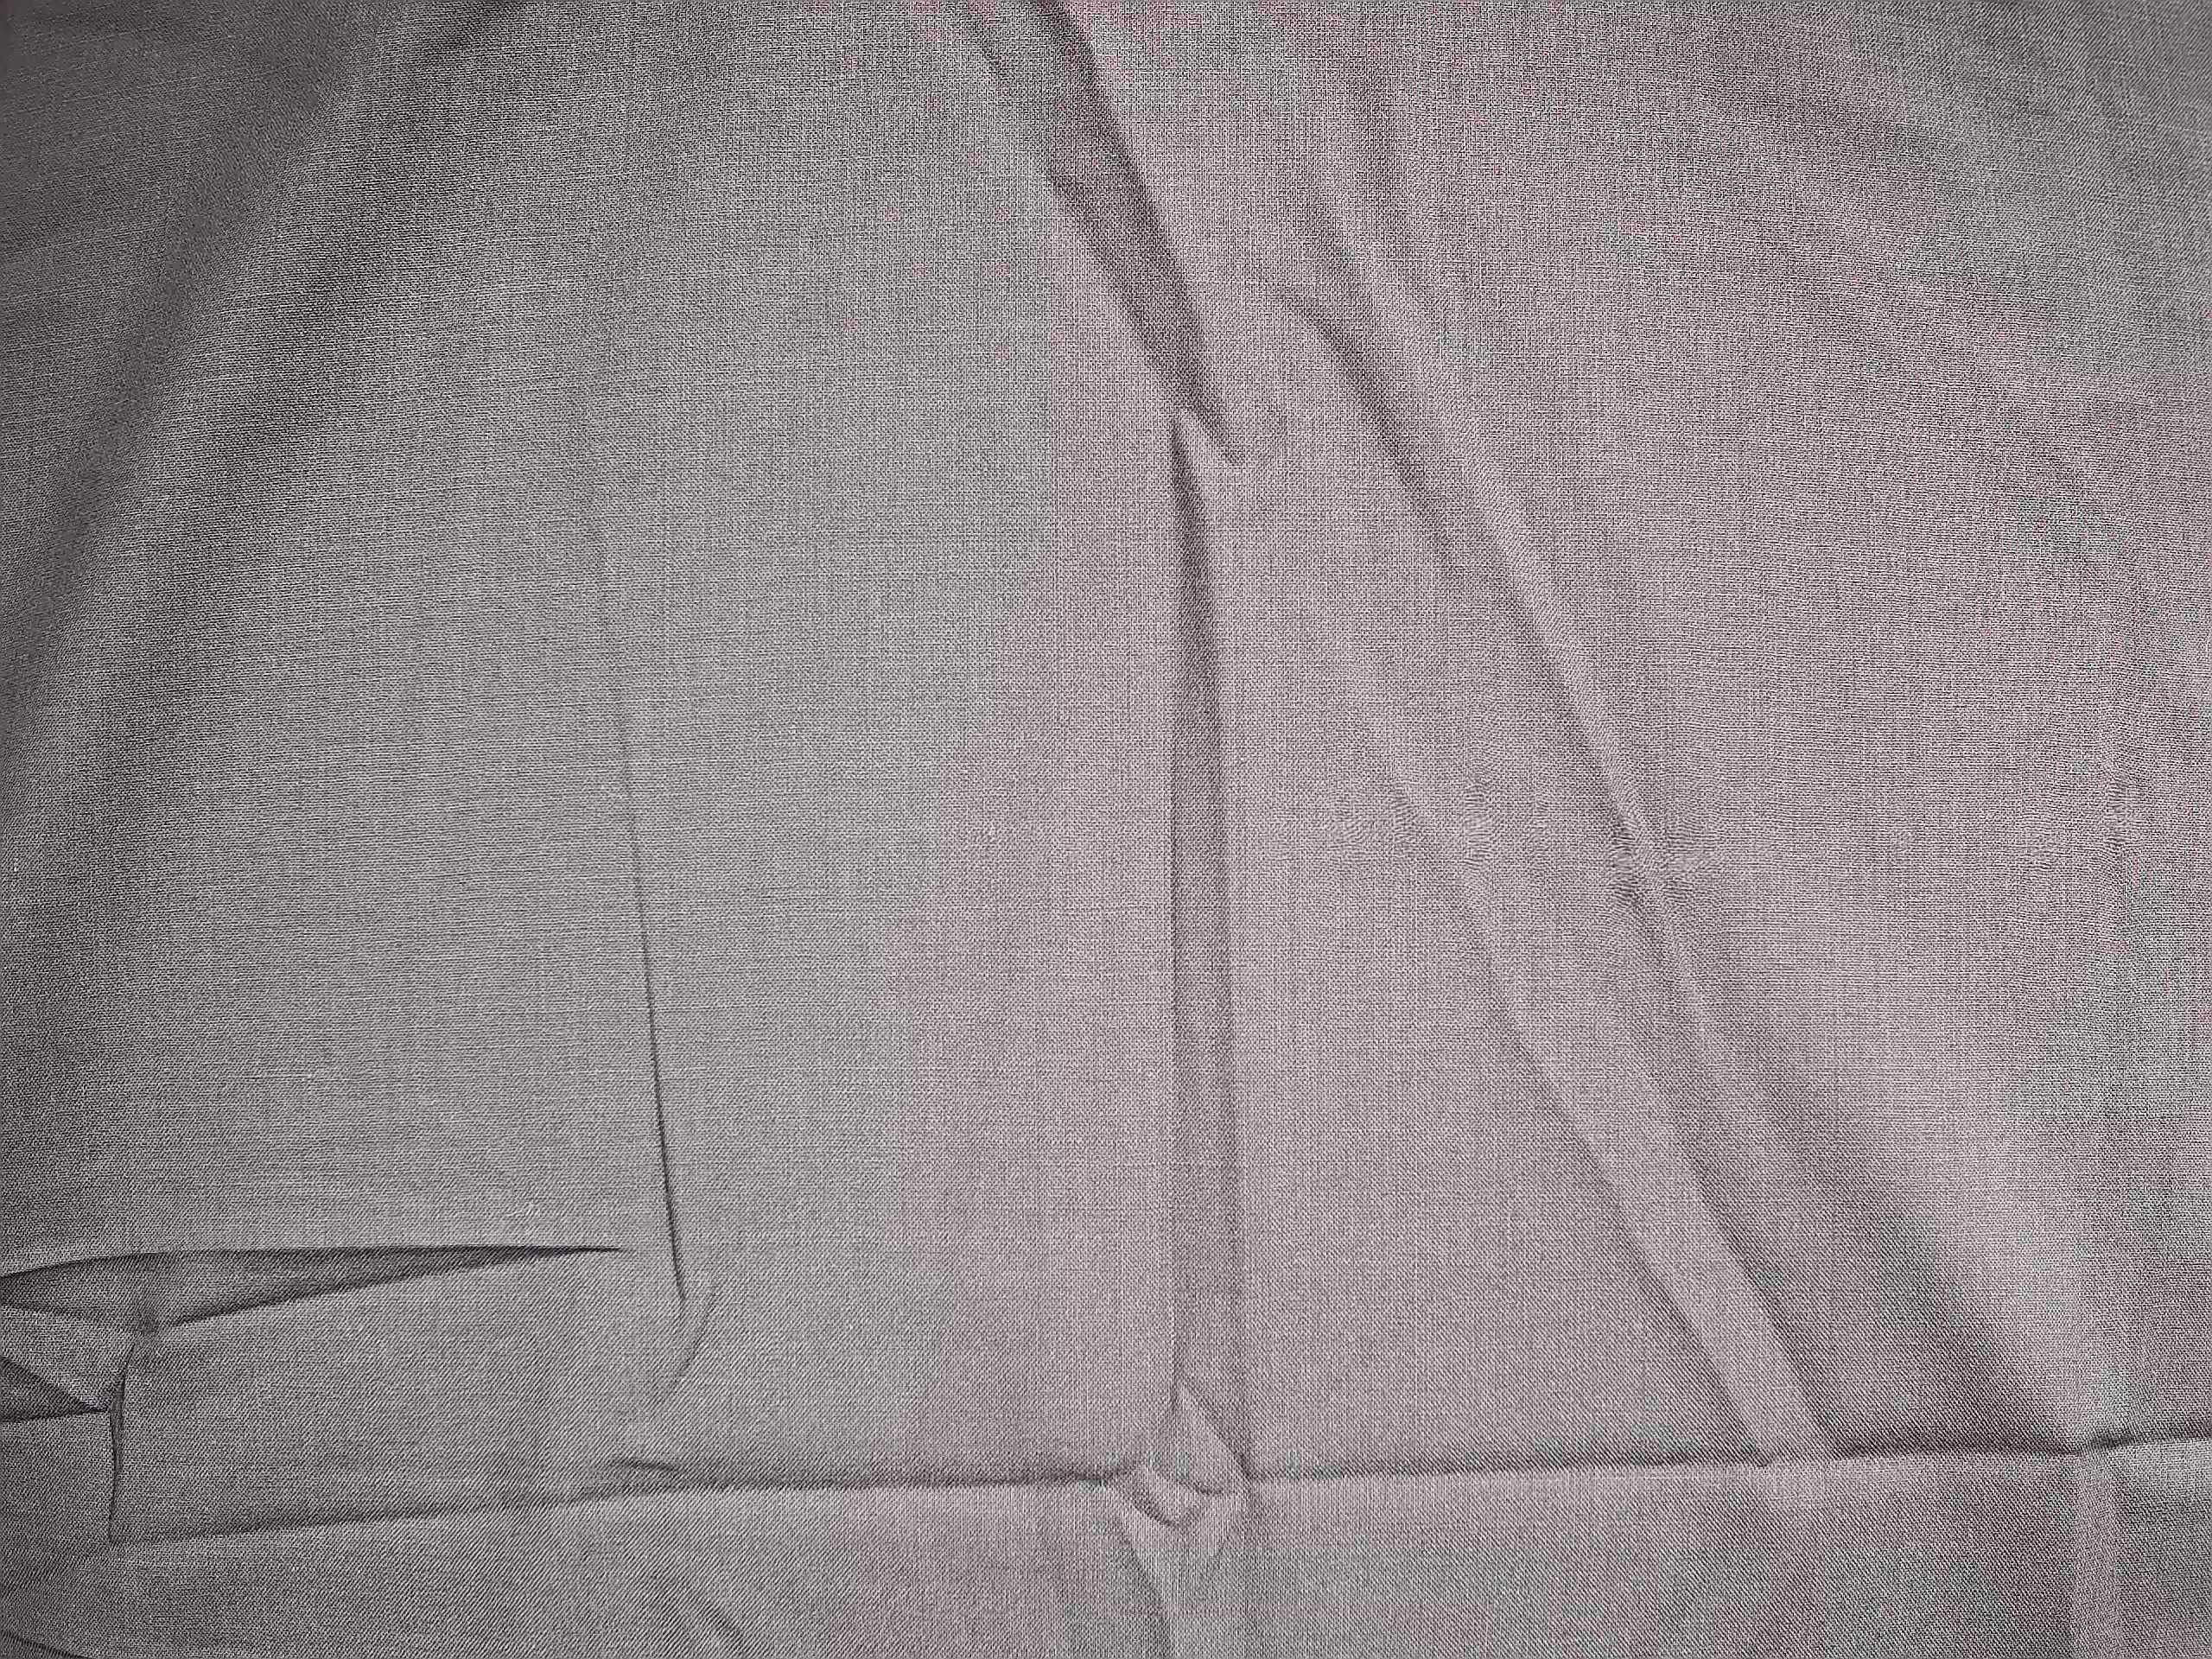rubbing-hole: (1601, 802, 1724, 931), (1315, 772, 1432, 882), (2088, 762, 2156, 871), (1456, 769, 1501, 882)
